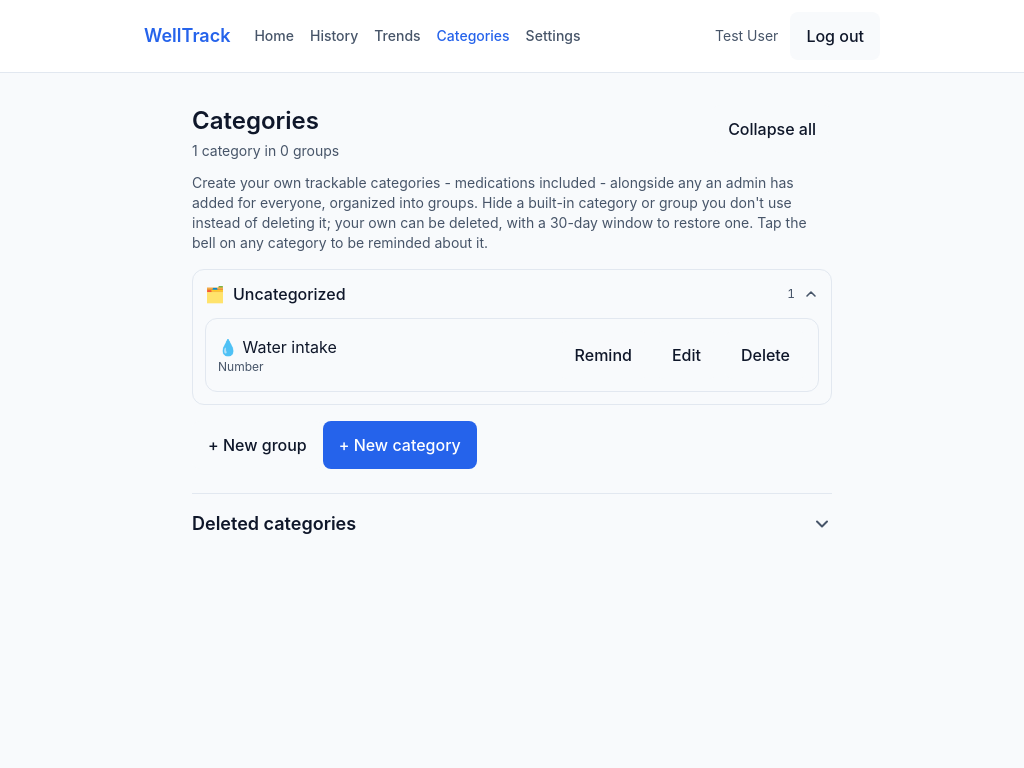
CategoriesPage › cancelling the delete confirmation leaves the category untouched, with no DELETE request sent
The width and height of the screenshot is (1024, 768).
Check: the text "💧 Water intake" is shown, box [218,335,337,359]
Click the button with aria-label "Delete Water intake": (765, 355) [725,331,806,379]
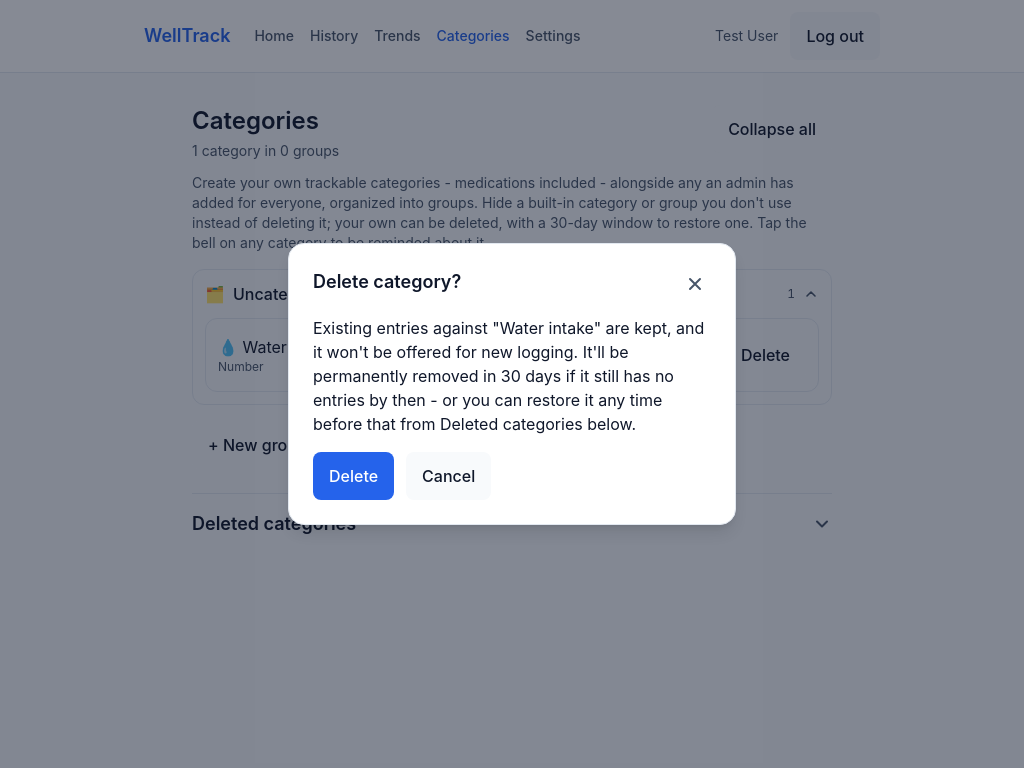
Check: the heading "Delete category?" is shown, box [313,268,461,296]
Click the button "Cancel": (449, 476) [406,452,491,500]
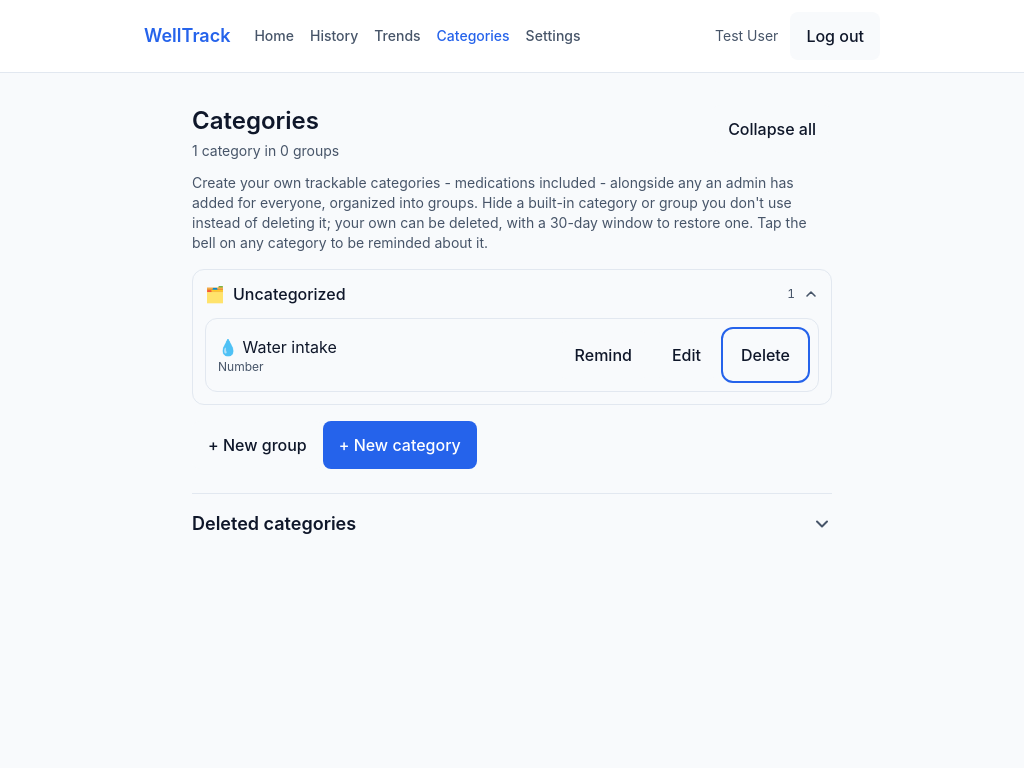
Check: the button with aria-label "Delete Water intake" is shown, box [725,331,806,379]
Check: the heading "Delete category?" is gone
